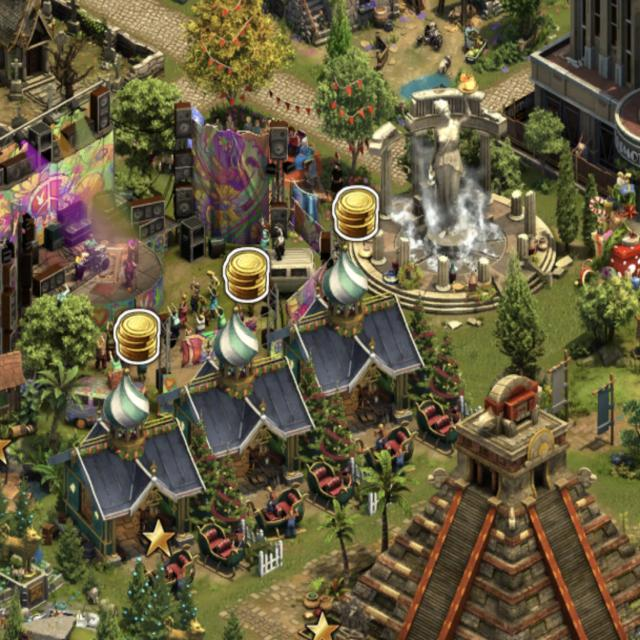coin: (321, 182, 391, 244), (105, 305, 172, 369), (214, 242, 278, 306)
star: (138, 514, 183, 563), (303, 610, 342, 640)
